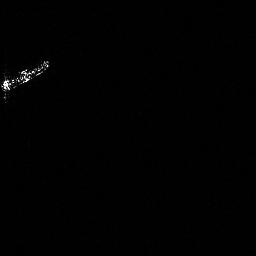ship: (2, 59, 49, 91)
